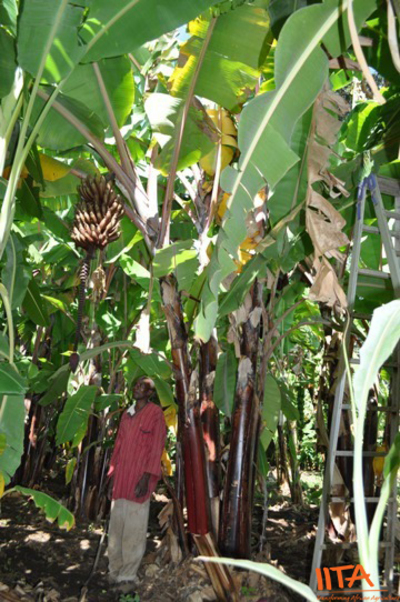bananaHand: (69, 174, 129, 249)
